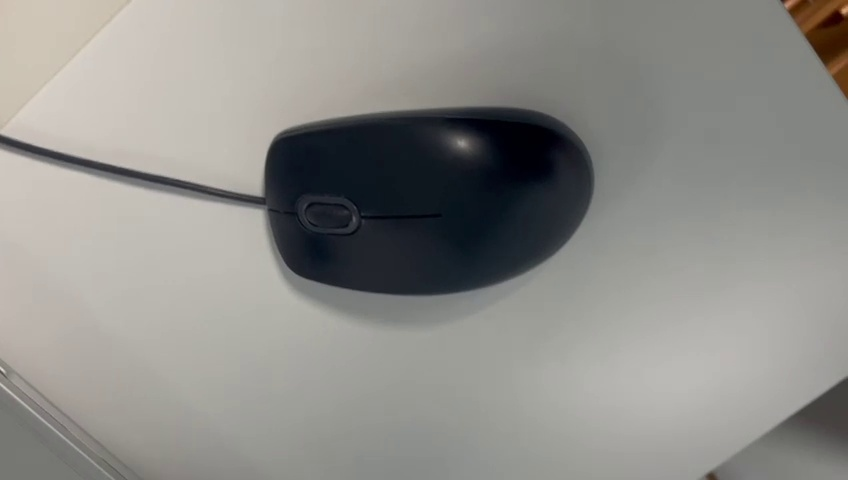objeto: (220, 106, 624, 309)
